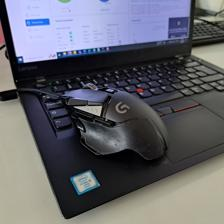mouse: (58, 82, 170, 164)
